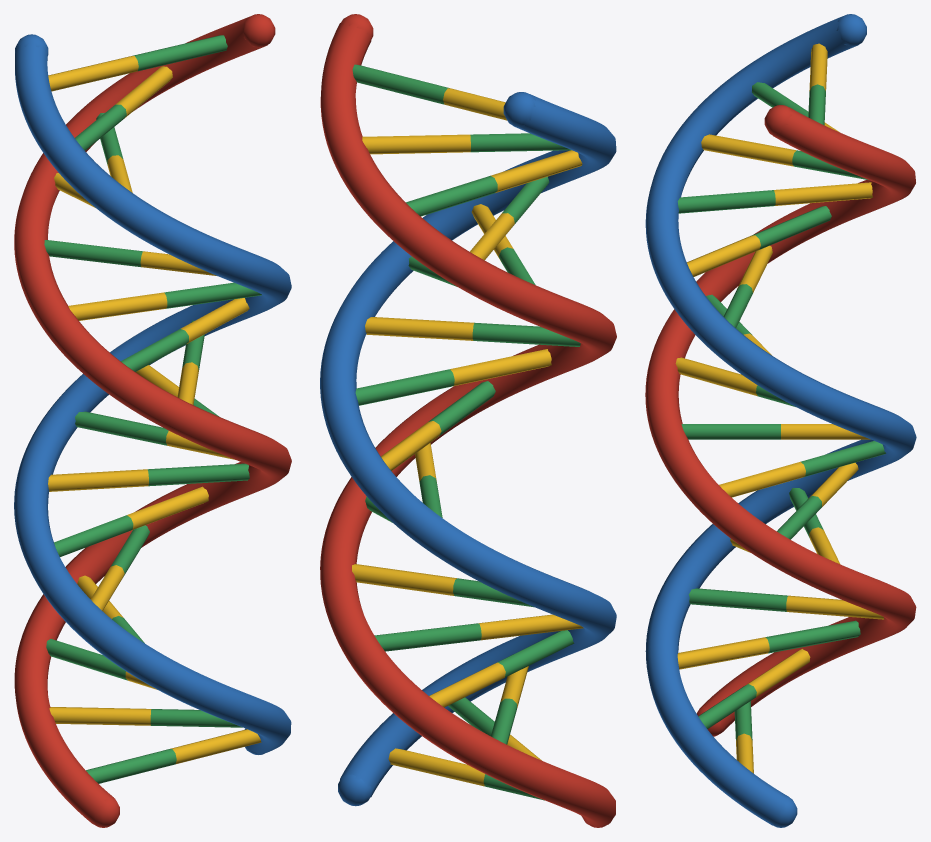
File: twisted-ladder.glb
The picture shows the model from 3 angles, left to right: view 1: azimuth 30°, elevation 25°; view 2: azimuth 150°, elevation 25°; view 3: azimuth 270°, elevation 25°; orthographic projection. The views are drawn at different scales.
Visible parts, largest first — view 1: part0, part1, part15, part14, part5, part25, part16, part27, part35, part34, part3, part24 (+18 smaller); view 2: part1, part0, part22, part33, part13, part11, part21, part20, part23, part35, part2, part30 (+19 smaller); view 3: part0, part1, part8, part29, part28, part7, part30, part6, part19, part9, part21, part17 (+19 smaller).
Boxes of the visible parts, x1,y1,x2,y2 form: part0: (14,42,291,754); part1: (14,16,291,822); part15: (147,463,249,486); part14: (48,469,148,491); part5: (49,707,151,725); part25: (68,292,167,320); part16: (75,411,168,445); part27: (44,240,143,266); part35: (132,35,227,71); part34: (48,56,138,91); part3: (86,749,176,783); part24: (164,282,261,308); part1: (320,21,616,827); part0: (320,94,616,796); part22: (365,317,474,340); part33: (362,134,470,154); part13: (352,564,456,595); part11: (374,623,481,651); part21: (450,349,551,386); part20: (355,369,454,405); part23: (472,322,580,346); part35: (352,64,449,104); part2: (388,748,484,786); part30: (491,150,582,192); part0: (645,16,916,825); part1: (645,107,916,731); part8: (688,588,787,611); part29: (774,182,872,205); part28: (677,190,775,213); part7: (765,620,860,653); part30: (701,134,796,166); part6: (677,637,769,669); part19: (681,424,780,439); part9: (786,595,883,619); part21: (675,357,757,396); part17: (719,461,805,497).
Bounding box in the file's own units: 1.14 × 3.34 × 1.14.
